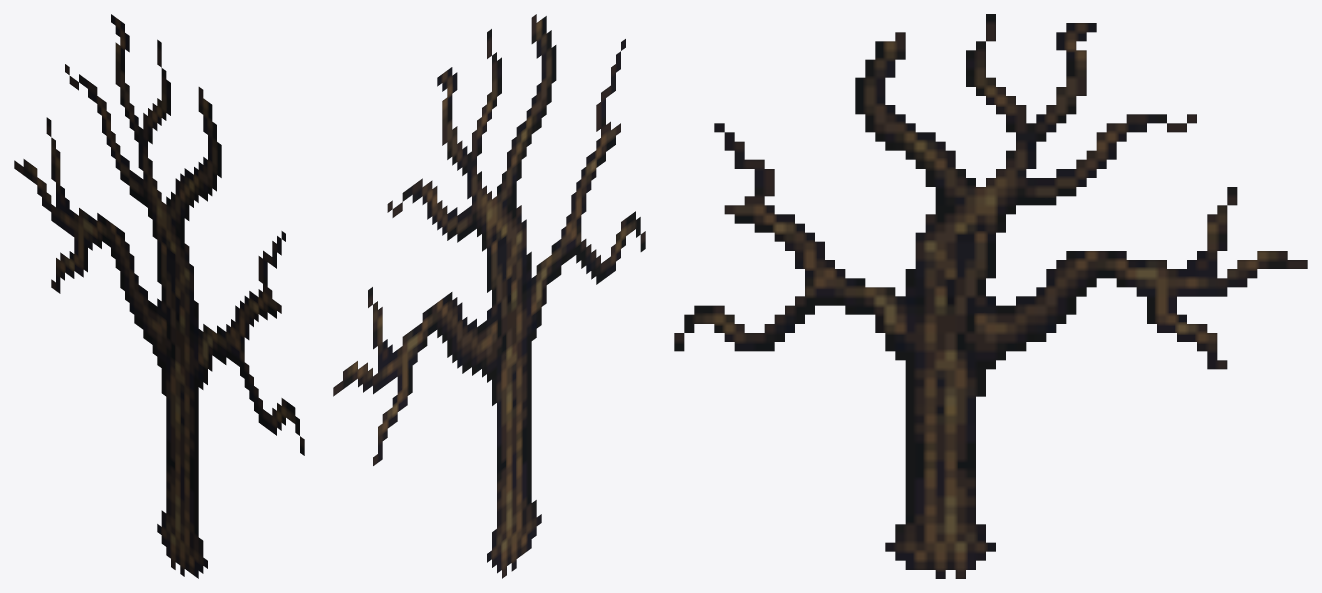
File: ObjMD_Tree_G.FBX
The picture shows the model from 3 angles, left to right: view 1: azimuth 30°, elevation 25°; view 2: azimuth 150°, elevation 25°; view 3: azimuth 270°, elevation 25°; orthographic projection. The views are drawn at different scales.
Parts seen in each view (by area): view 1: ObjMD_Tree_G; view 2: ObjMD_Tree_G; view 3: ObjMD_Tree_G.
Part boxes in pixels (left/top/right/bottom): ObjMD_Tree_G: left=14, top=14, right=304, bottom=578; ObjMD_Tree_G: left=333, top=14, right=645, bottom=578; ObjMD_Tree_G: left=674, top=14, right=1307, bottom=578.
Bounding box in the file's own units: 2.29e-13 × 388 × 394.
